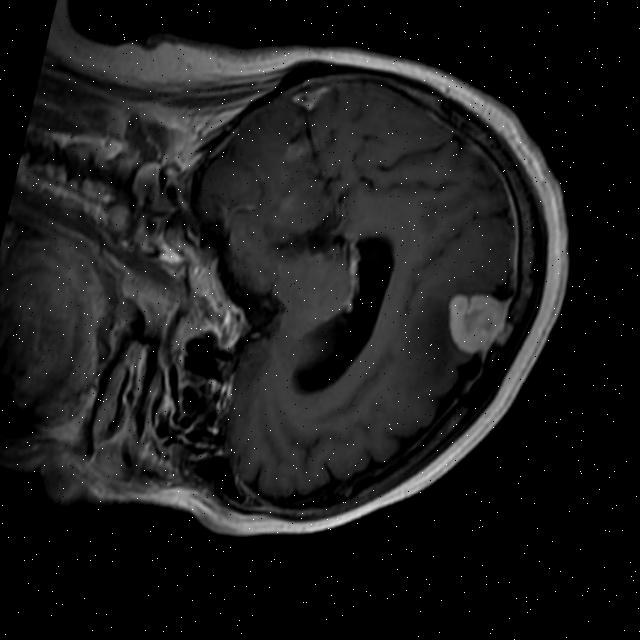Meningioma: (434, 284, 514, 364)
